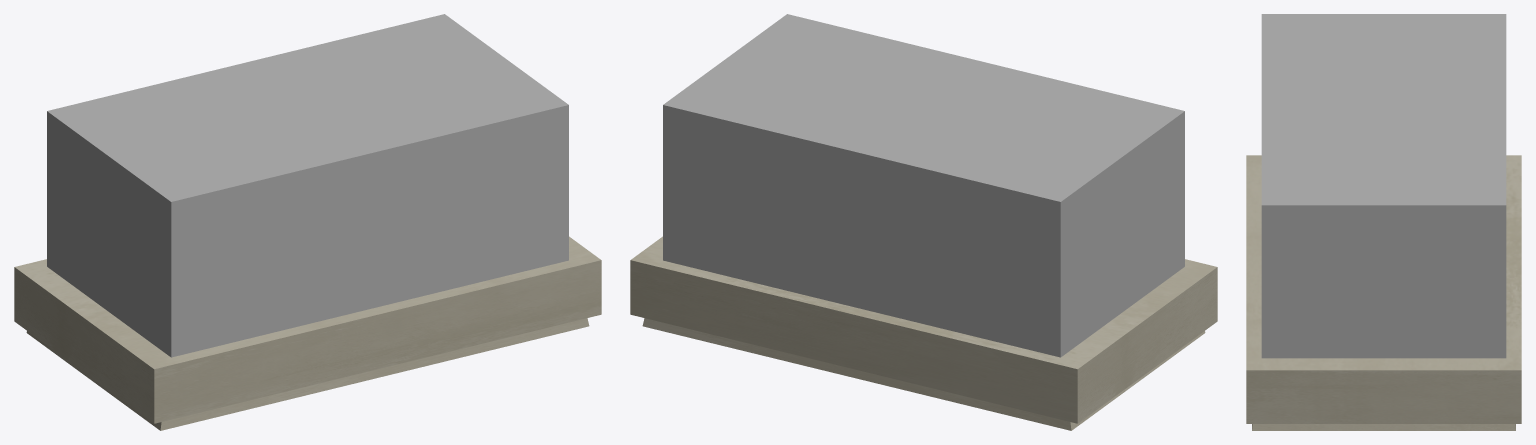
The model's file is display_case.fbx.
3 views of the same model, side by side, from view 1: azimuth 30°, elevation 25°; view 2: azimuth 150°, elevation 25°; view 3: azimuth 270°, elevation 25° (orthographic).
Parts seen in each view (by area): view 1: display case-large; view 2: display case-large; view 3: display case-large.
Boxes of the visible parts, left/top/right/bottom form: display case-large: left=14, top=14, right=601, bottom=430; display case-large: left=630, top=14, right=1217, bottom=430; display case-large: left=1246, top=14, right=1521, bottom=430.
Bounding box in the file's own units: 200 × 94.67 × 108.
Materials: 1 (1 with a texture image).
